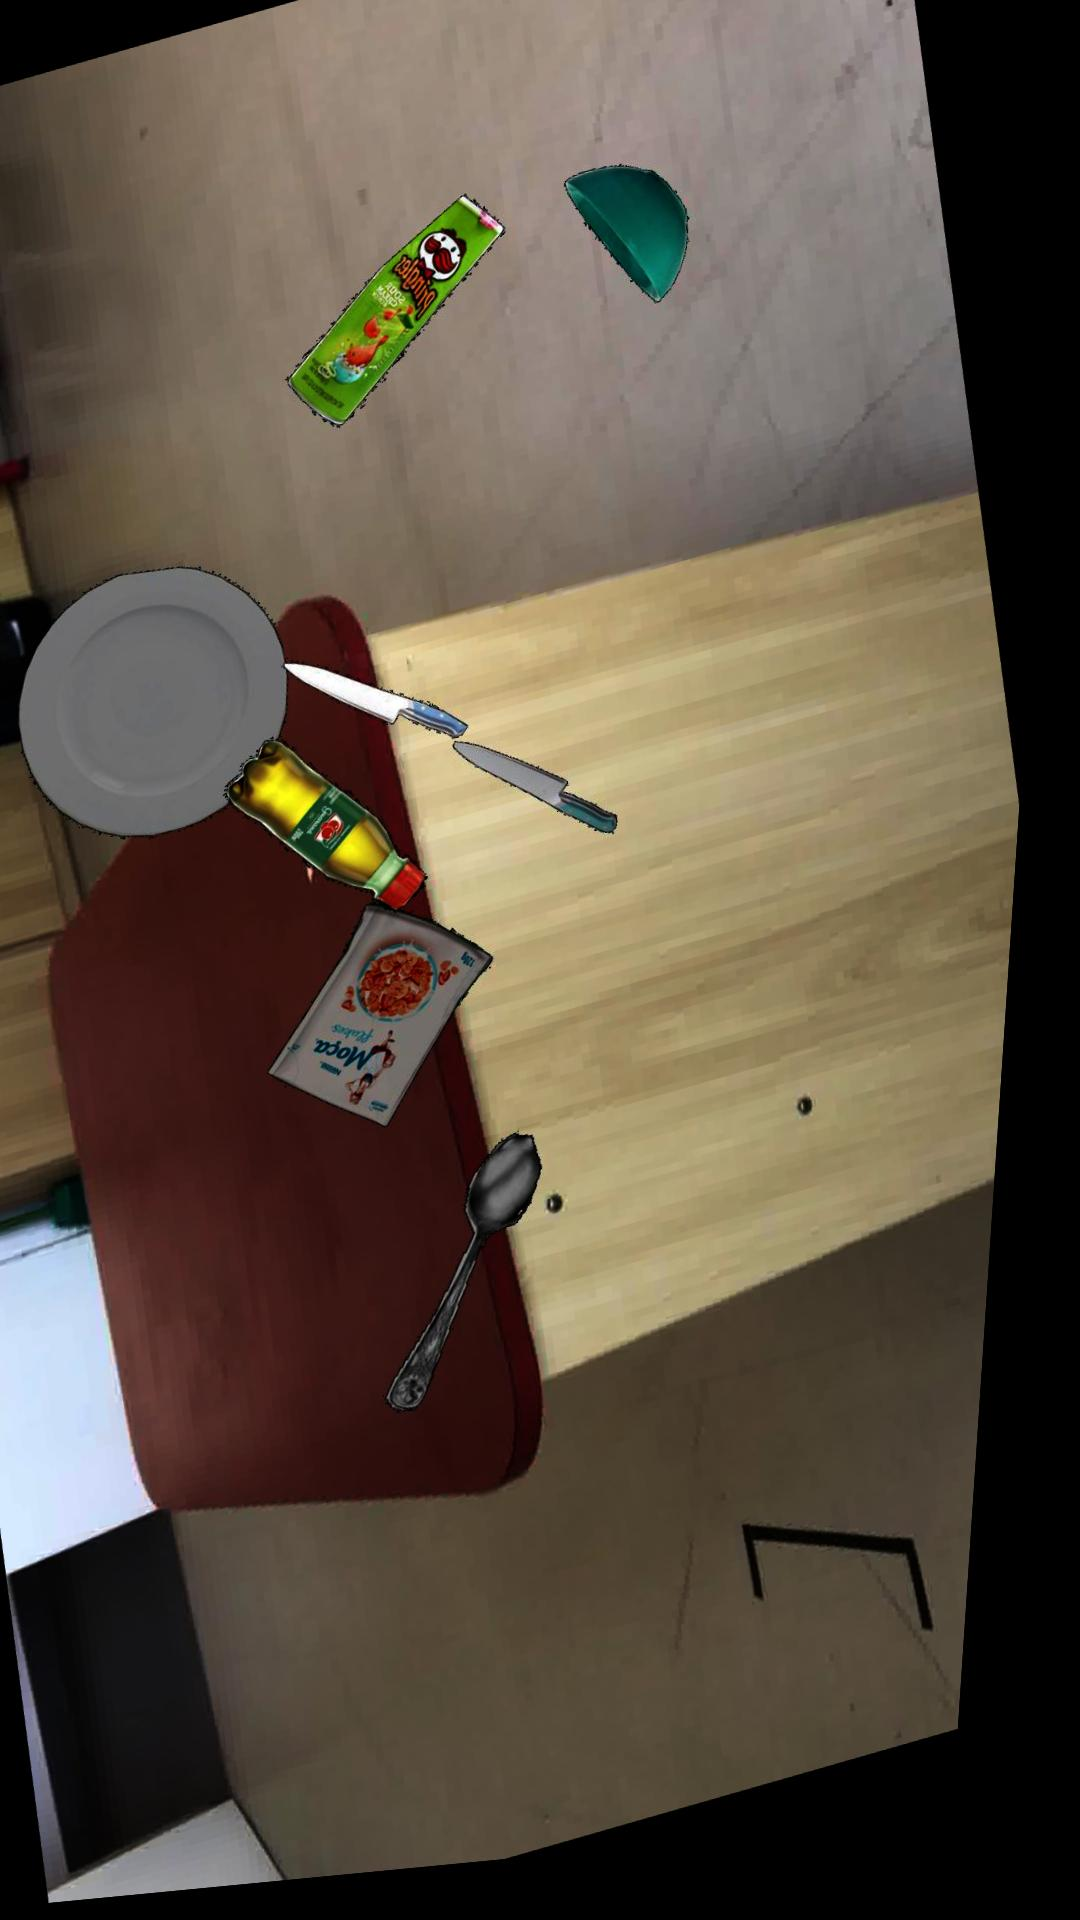bowl: (570, 175, 695, 314)
corn flakes: (285, 909, 509, 1135)
guarana: (237, 745, 442, 920)
knife: (465, 750, 632, 845), (294, 667, 480, 746)
plate: (29, 570, 299, 841)
pringles: (295, 203, 510, 431)
spoon: (407, 1143, 560, 1420)
